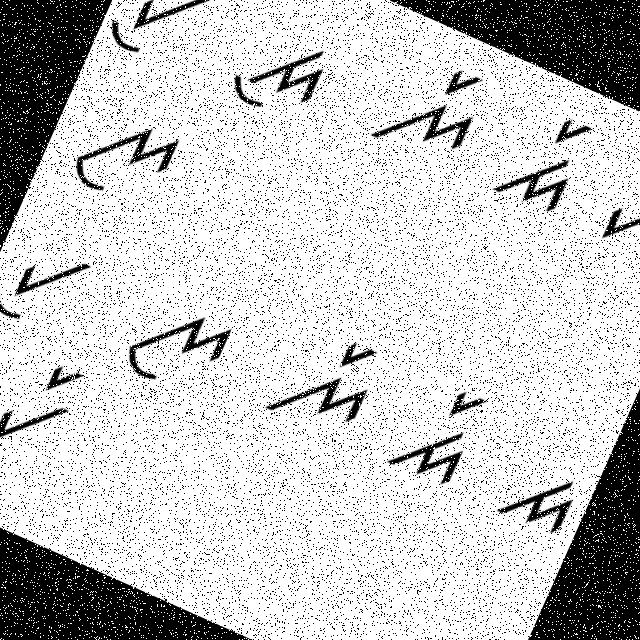da: (483, 442, 590, 547)
dar: (371, 361, 507, 512), (490, 92, 604, 220)
daw: (208, 12, 339, 142)
nar: (250, 304, 400, 454), (366, 40, 500, 178)
naw: (102, 274, 249, 411), (62, 94, 191, 223)
par: (0, 340, 104, 473), (585, 140, 639, 269)
paw: (0, 222, 107, 351), (98, 0, 220, 84)
